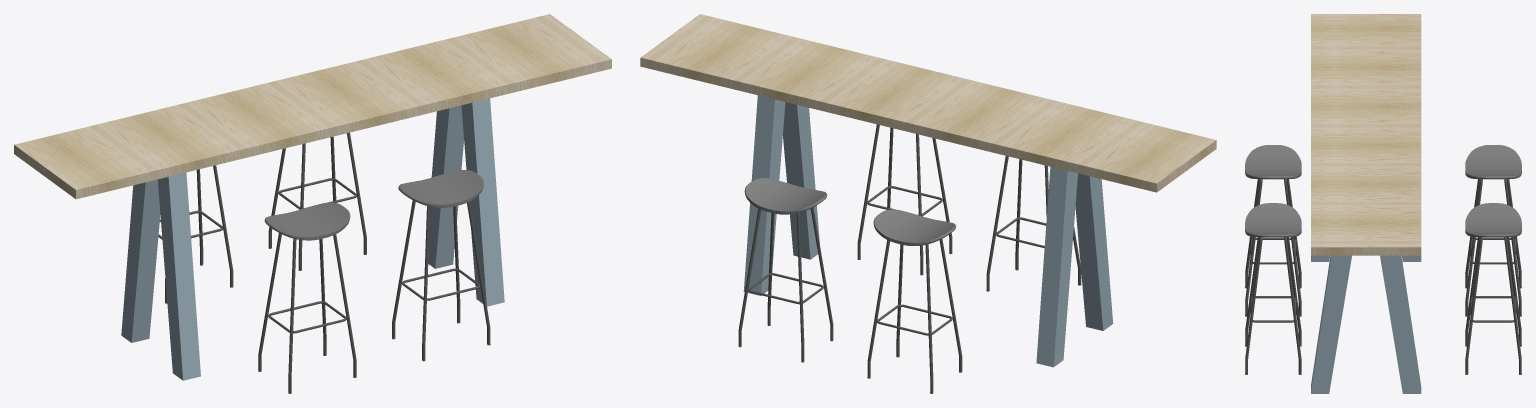
File: Bar table.fbx
3 views of the same model, side by side, from view 1: azimuth 30°, elevation 25°; view 2: azimuth 150°, elevation 25°; view 3: azimuth 270°, elevation 25° (orthographic). The views are drawn at different scales.
Visible parts, largest first — view 1: M_07c0145e_c699_4a97_97e8_0268a56639e5 (from Converted Objec, mplano_li (from Converted Object) (1), Paint - Dark Gray, Textile - Fabric Gray 22; view 2: M_07c0145e_c699_4a97_97e8_0268a56639e5 (from Converted Objec, mplano_li (from Converted Object) (1), Paint - Dark Gray, Textile - Fabric Gray 22; view 3: M_07c0145e_c699_4a97_97e8_0268a56639e5 (from Converted Objec, Textile - Fabric Gray 22, Paint - Dark Gray, mplano_li (from Converted Object) (1).
Boxes of the visible parts, x1=… form: M_07c0145e_c699_4a97_97e8_0268a56639e5 (from Converted Objec: x1=14, y1=14, x2=611, y2=199; mplano_li (from Converted Object) (1): x1=121, y1=98, x2=504, y2=380; Paint - Dark Gray: x1=158, y1=132, x2=490, y2=392; Textile - Fabric Gray 22: x1=264, y1=170, x2=483, y2=240; M_07c0145e_c699_4a97_97e8_0268a56639e5 (from Converted Objec: x1=640, y1=14, x2=1216, y2=192; mplano_li (from Converted Object) (1): x1=743, y1=95, x2=1113, y2=367; Paint - Dark Gray: x1=738, y1=124, x2=1081, y2=392; Textile - Fabric Gray 22: x1=744, y1=178, x2=956, y2=245; M_07c0145e_c699_4a97_97e8_0268a56639e5 (from Converted Objec: x1=1311, y1=14, x2=1421, y2=255; Textile - Fabric Gray 22: x1=1245, y1=145, x2=1521, y2=237; Paint - Dark Gray: x1=1245, y1=179, x2=1521, y2=374; mplano_li (from Converted Object) (1): x1=1311, y1=255, x2=1421, y2=393.
Size of the model in its own units: 300 by 151 by 118.
5 materials, 1 textured.
